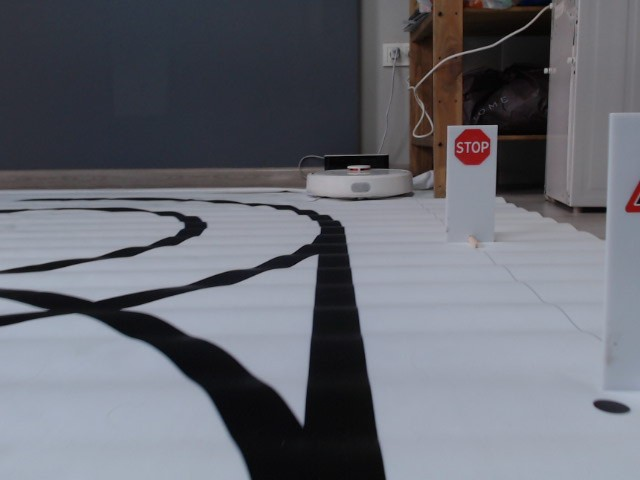Stop: (452, 127, 493, 167)
